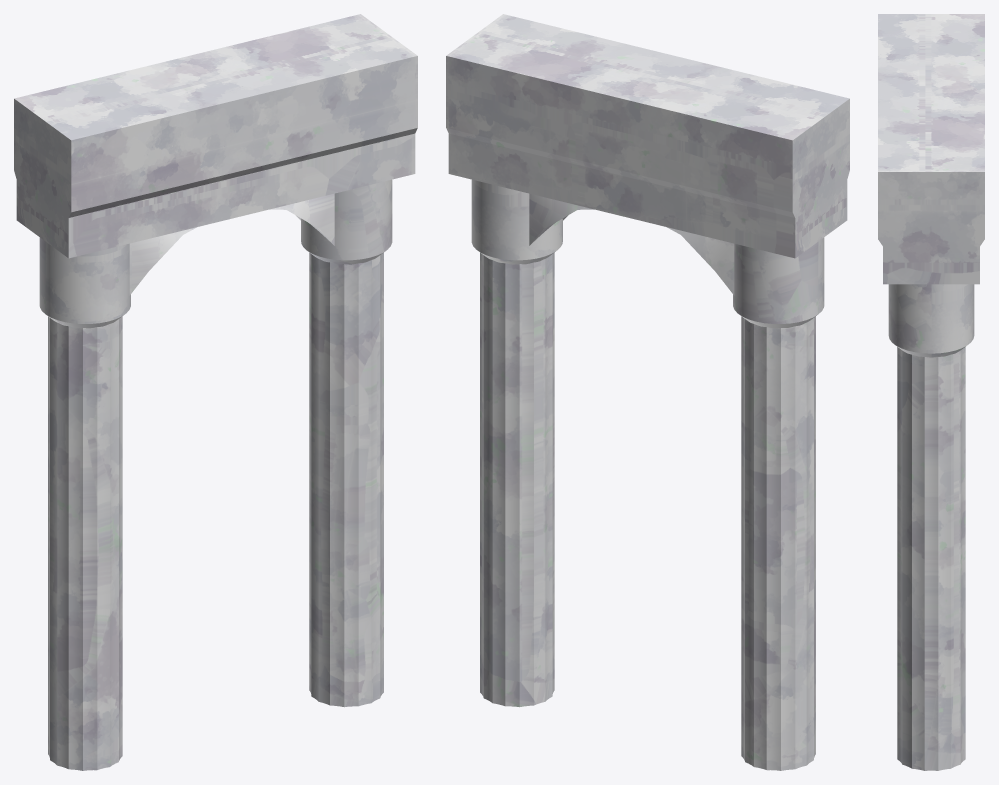
File: Arch01_Blockout.fbx
3 views of the same model, side by side, from view 1: azimuth 30°, elevation 25°; view 2: azimuth 150°, elevation 25°; view 3: azimuth 270°, elevation 25° (orthographic). The views are drawn at different scales.
Parts seen in each view (by area): view 1: Arch01_LP; view 2: Arch01_LP; view 3: Arch01_LP.
Part boxes in pixels (box(x1,y1,x2,y2)): Arch01_LP: box(14, 14, 417, 770); Arch01_LP: box(446, 14, 849, 770); Arch01_LP: box(878, 14, 984, 770).
Size of the model in its own units: 2542 by 4527 by 726.
